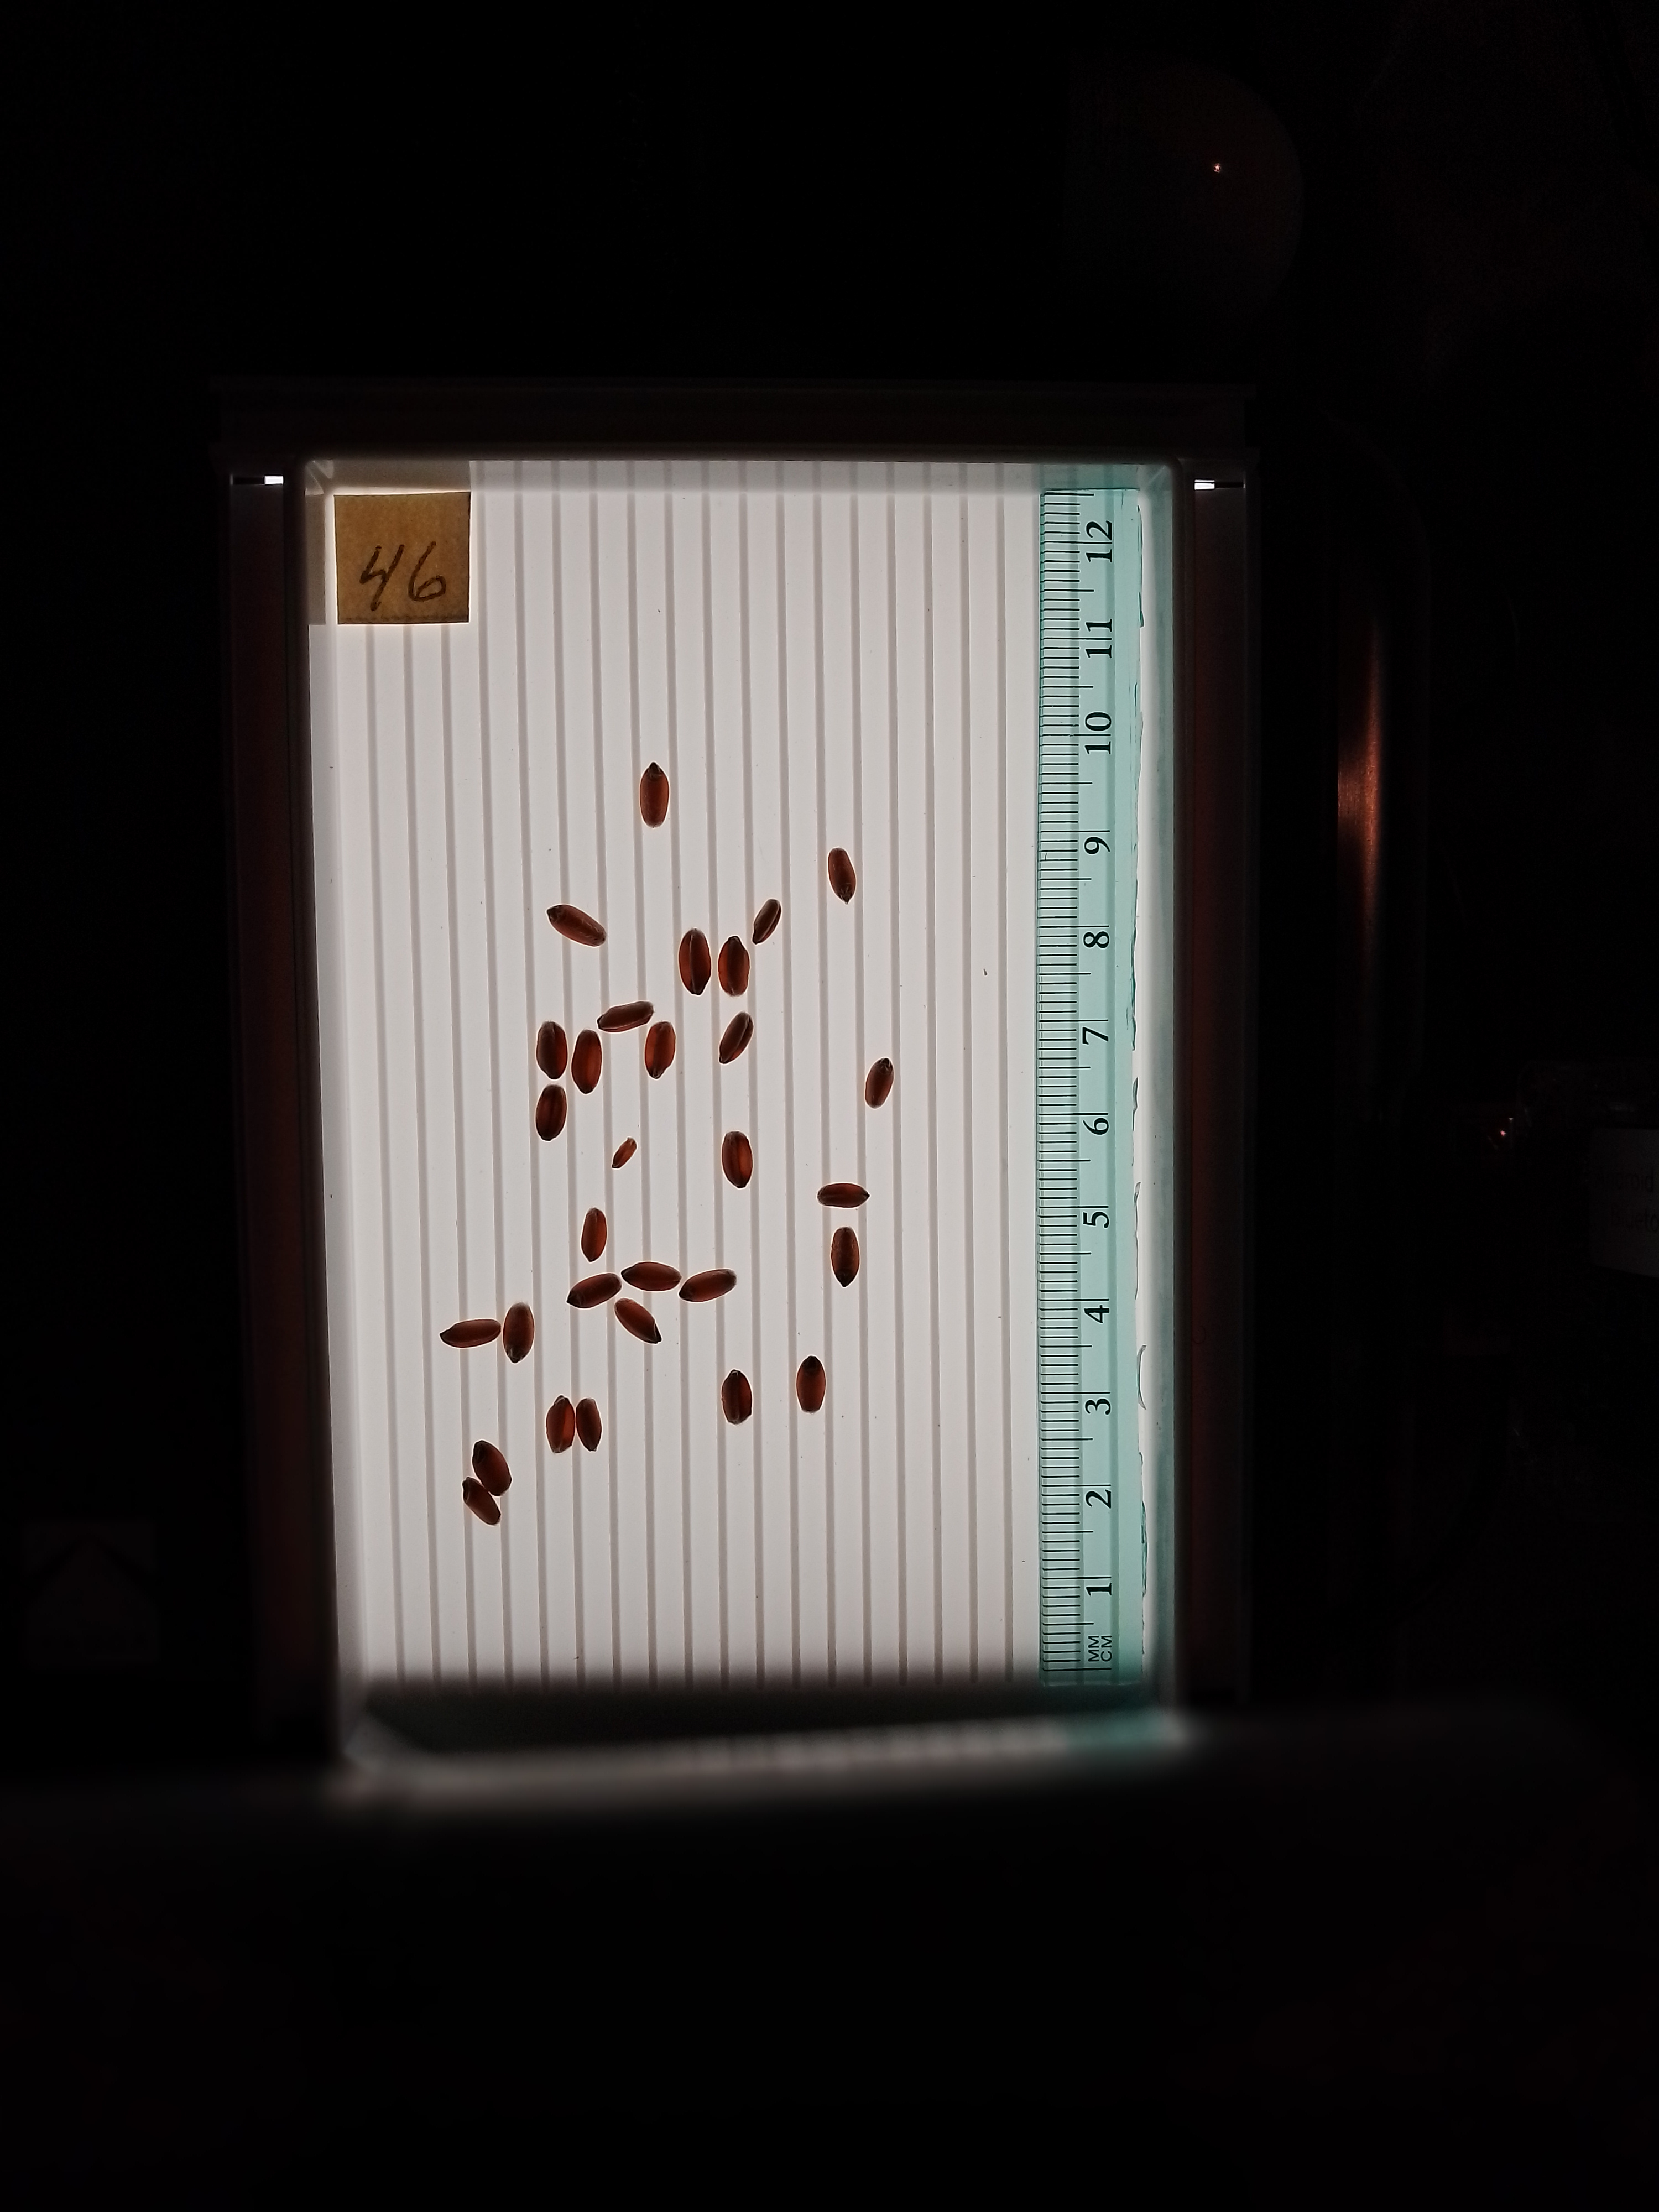seed mask: (549, 904, 605, 948), (678, 930, 711, 995), (472, 1442, 511, 1496), (617, 1299, 660, 1345), (640, 765, 671, 827), (572, 1031, 603, 1094), (718, 937, 749, 996), (570, 1275, 620, 1310), (831, 1228, 861, 1287), (504, 1305, 533, 1364), (441, 1318, 500, 1348), (721, 1132, 753, 1188), (624, 1261, 680, 1292), (599, 1001, 652, 1035), (681, 1270, 734, 1303), (645, 1021, 674, 1078), (537, 1022, 568, 1076), (720, 1014, 753, 1064), (464, 1479, 500, 1524), (796, 1357, 826, 1413), (545, 1399, 575, 1453), (535, 1089, 566, 1139), (721, 1372, 751, 1425), (828, 848, 856, 900), (864, 1059, 894, 1106), (819, 1181, 868, 1209), (582, 1211, 608, 1261), (577, 1400, 603, 1451), (753, 900, 781, 942), (613, 1139, 636, 1169)
